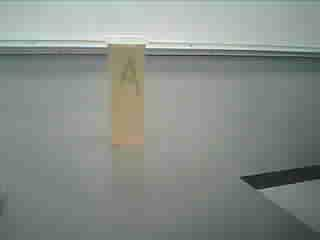Bottle A: (101, 30, 156, 155)
